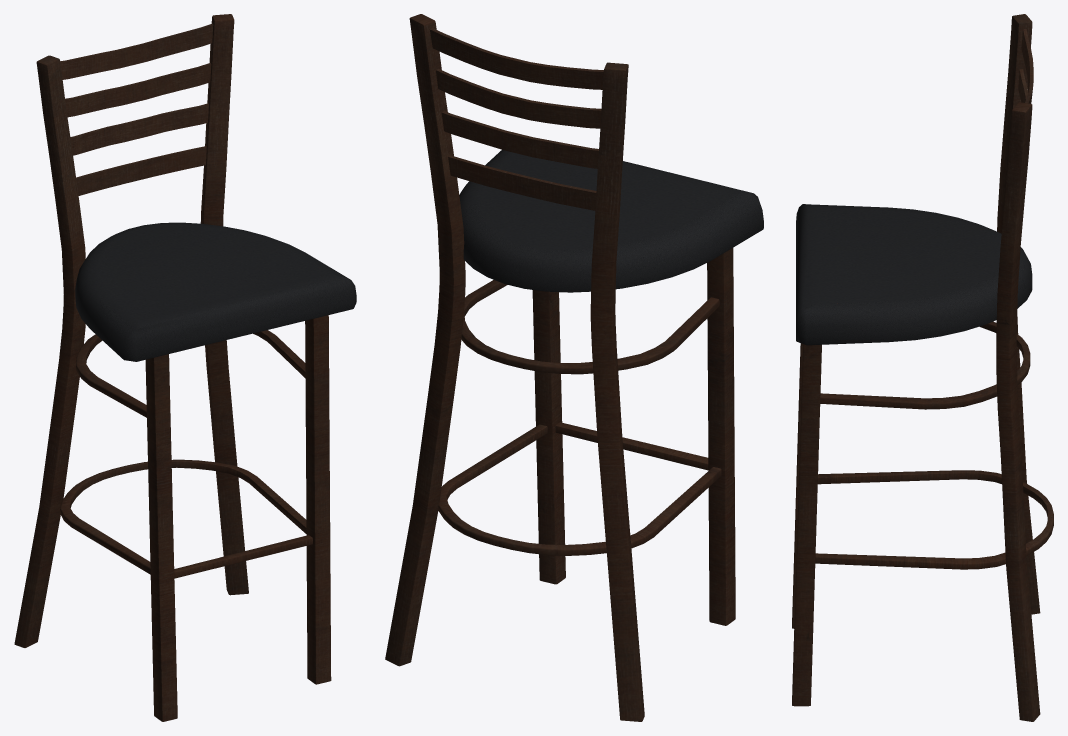
File: BarChair05.FBX
3 views of the same model, side by side, from view 1: azimuth 30°, elevation 25°; view 2: azimuth 150°, elevation 25°; view 3: azimuth 270°, elevation 25° (orthographic). The views are drawn at different scales.
Visible parts, largest first — view 1: BarChair05; view 2: BarChair05; view 3: BarChair05.
Part boxes in pixels (left/top/right/bottom): BarChair05: left=14, top=14, right=356, bottom=721; BarChair05: left=385, top=14, right=763, bottom=721; BarChair05: left=792, top=14, right=1053, bottom=721.
Size of the model in its own units: 515 by 1229 by 485.
